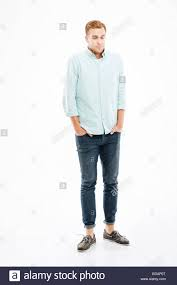standing: (57, 18, 138, 257)
